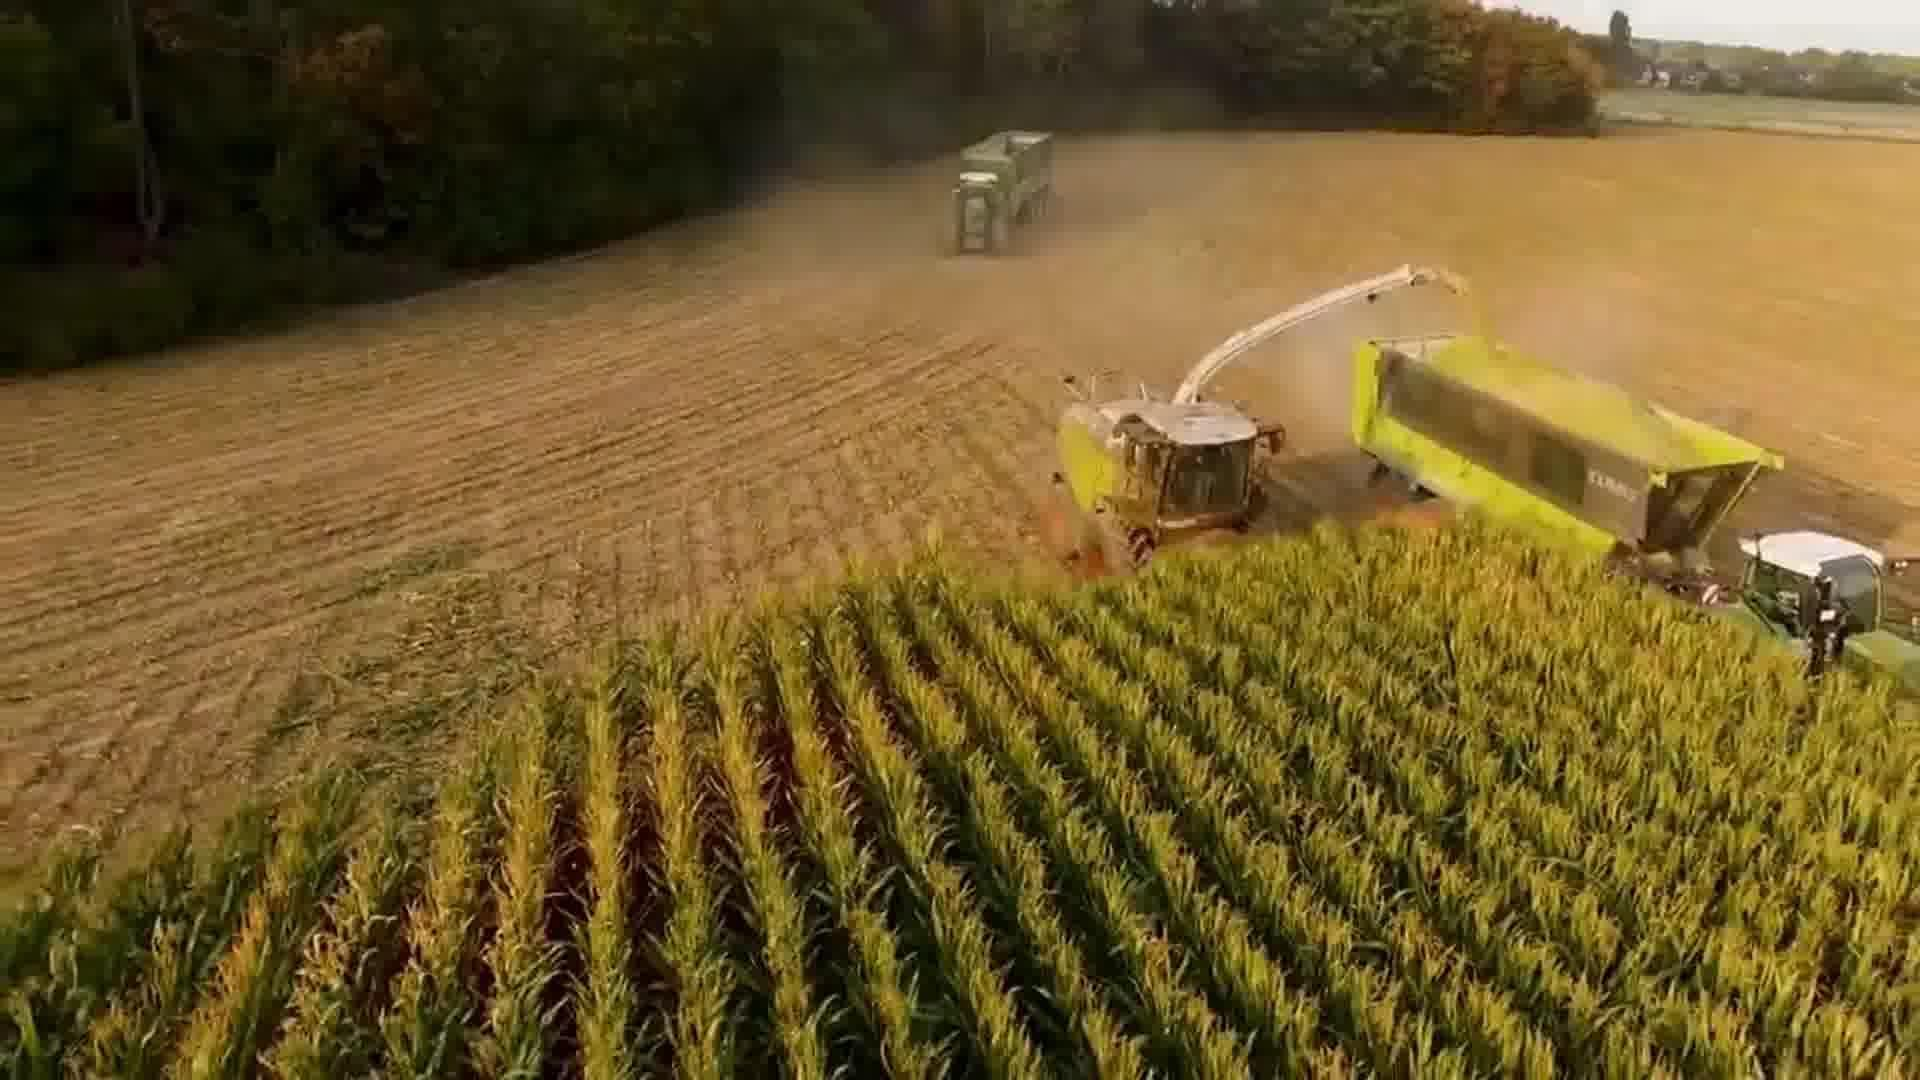combine harvester: (1038, 256, 1452, 596)
tractor: (1701, 516, 1920, 740), (938, 165, 1018, 261)
trailer: (1341, 309, 1792, 605), (948, 115, 1058, 229)
